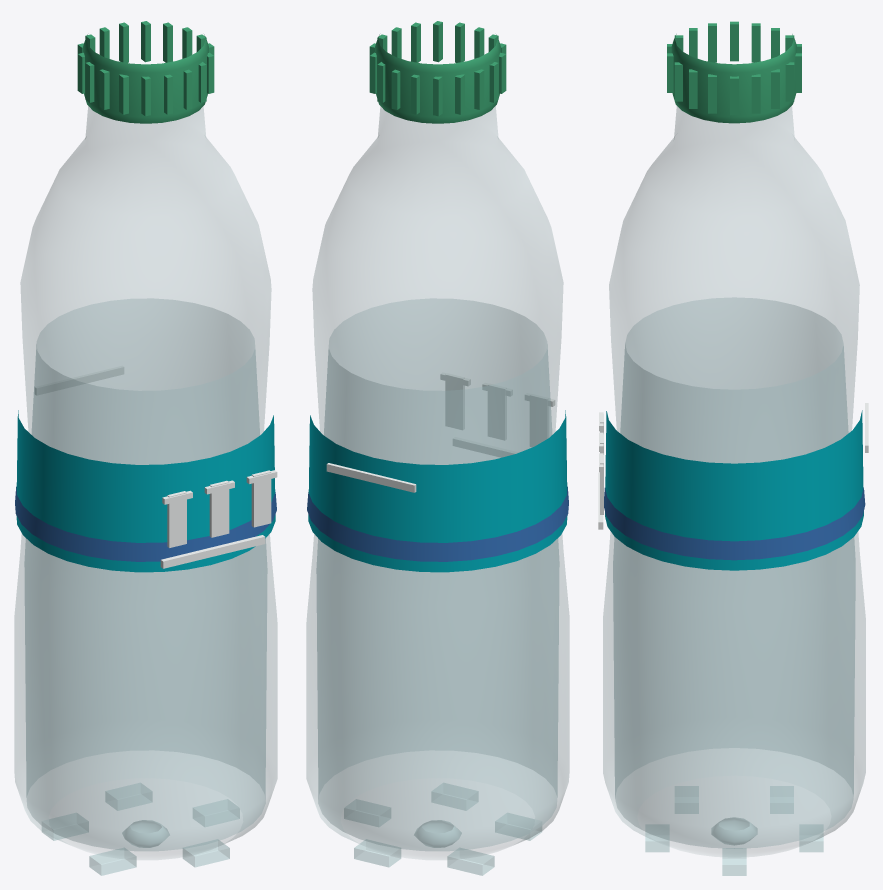
Rendered from runtian-500ml-water-bottle.glb.
The picture shows the model from 3 angles, left to right: view 1: azimuth 30°, elevation 25°; view 2: azimuth 150°, elevation 25°; view 3: azimuth 270°, elevation 25°; orthographic projection.
Parts seen in each view (by area): view 1: PET_Bottle, Water_Inner, Label_TealBand, Cap_Green, Base_Detail (×5), Label_BlueStripe, Brand_Mark (×3), Brand_Wave, Base_Foot, Label_Accent; view 2: PET_Bottle, Water_Inner, Label_TealBand, Label_BlueStripe, Cap_Green, Base_Detail (×5), Brand_Mark (×3), Base_Foot, Label_Accent, Brand_Wave; view 3: PET_Bottle, Water_Inner, Label_TealBand, Label_BlueStripe, Cap_Green, Base_Detail (×5), Base_Foot.
Boxes of the visible parts, x1,y1,x2,y2 form: PET_Bottle: [14, 106, 277, 859]; Water_Inner: [24, 298, 267, 850]; Label_TealBand: [16, 410, 275, 572]; Cap_Green: [83, 34, 208, 123]; Base_Detail (×5): [41, 783, 239, 875]; Label_BlueStripe: [15, 486, 276, 561]; Brand_Mark (×3): [167, 470, 271, 547]; Brand_Wave: [160, 535, 265, 568]; Base_Foot: [123, 820, 168, 847]; Label_Accent: [35, 366, 123, 394]; PET_Bottle: [306, 106, 569, 859]; Water_Inner: [316, 298, 559, 850]; Label_TealBand: [308, 410, 567, 572]; Label_BlueStripe: [307, 486, 568, 561]; Cap_Green: [375, 34, 500, 123]; Base_Detail (×5): [344, 783, 542, 875]; Brand_Mark (×3): [445, 373, 548, 446]; Base_Foot: [415, 820, 460, 847]; Label_Accent: [326, 463, 416, 492]; Brand_Wave: [453, 437, 517, 457]; PET_Bottle: [603, 106, 865, 856]; Water_Inner: [613, 297, 855, 848]; Label_TealBand: [605, 410, 863, 570]; Label_BlueStripe: [604, 487, 865, 560]; Cap_Green: [671, 34, 796, 123]; Base_Detail (×5): [645, 786, 823, 875]; Base_Foot: [712, 818, 756, 844].
Bounding box in the file's own units: 0.065 × 0.218 × 0.0667.
